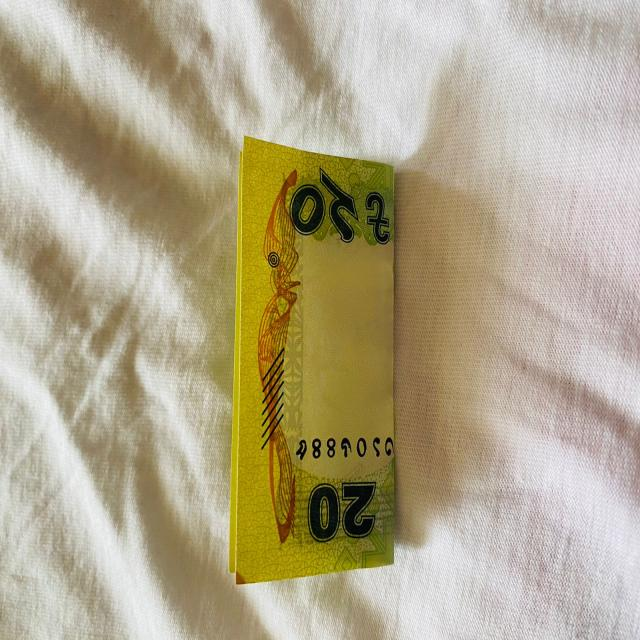Taka: (230, 123, 414, 590)
